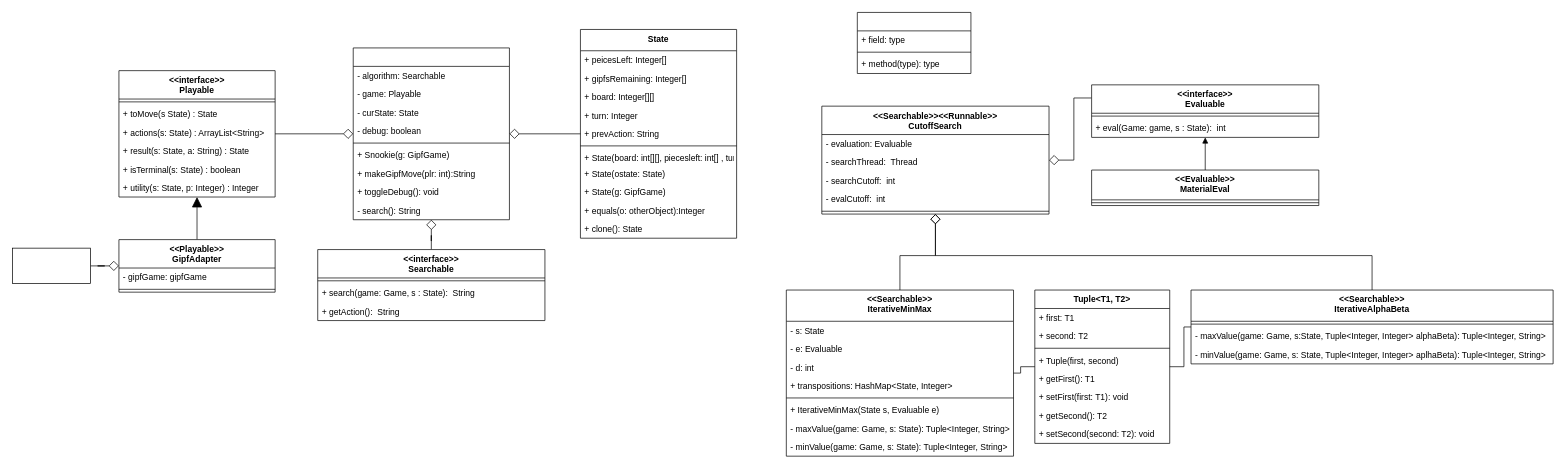
This 1566x471 diagram has some shape labels left out. The box of each missing label's shape, as (x1, y1, x2, y2) in pixels:
Agent (Snookie): (353, 47, 509, 220)
GiphGame: (12, 247, 91, 284)
ThreadPool: (857, 12, 971, 73)
